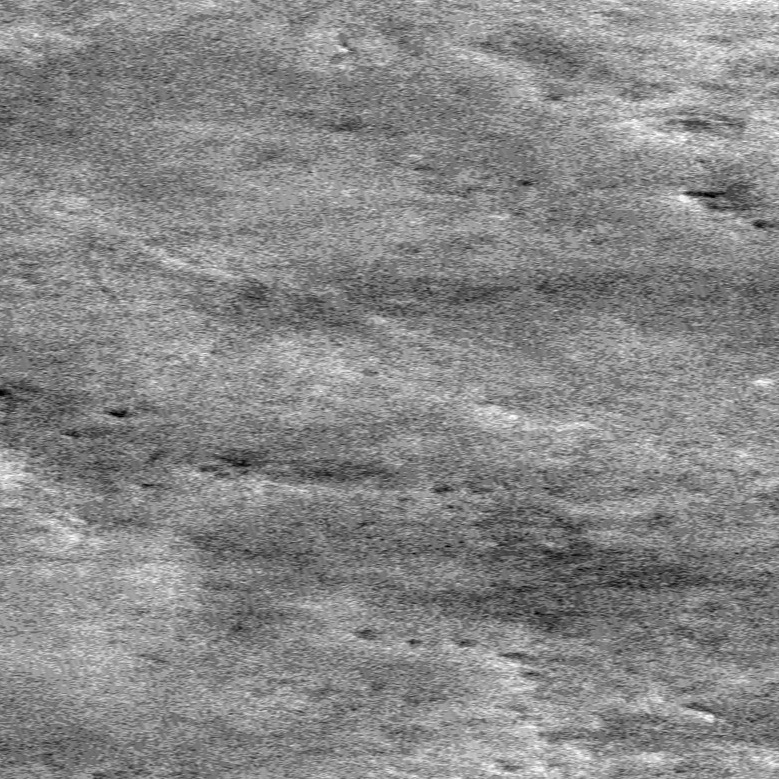dust_devil: (676, 191, 726, 204)
